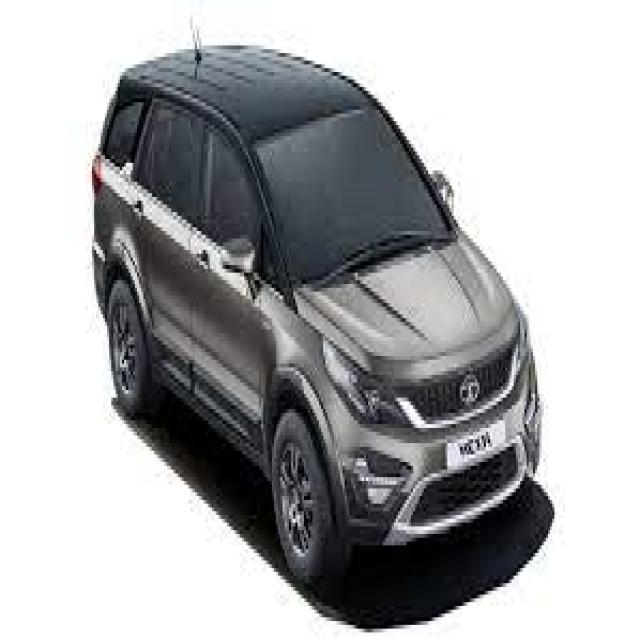Car: (86, 31, 547, 593)
